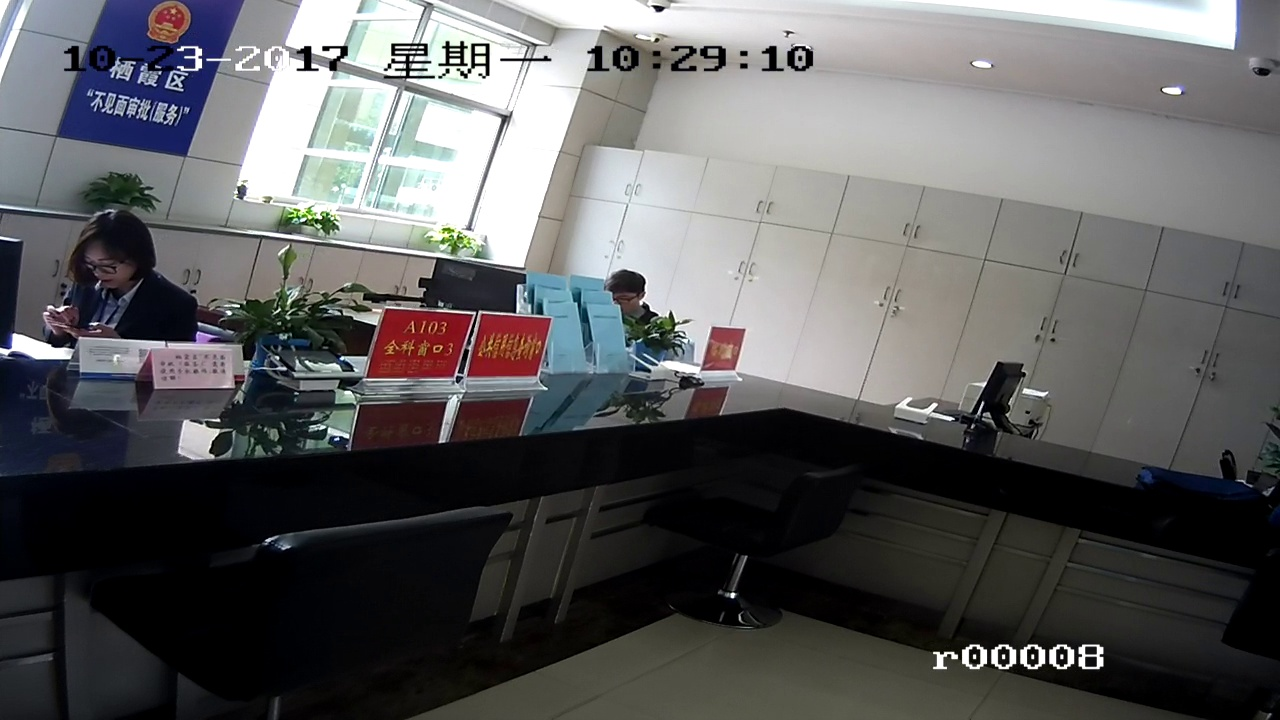billboard: (81, 2, 196, 136), (377, 307, 453, 385), (483, 317, 548, 385)
chair: (172, 523, 518, 684), (658, 458, 852, 628)
person: (66, 214, 168, 322), (606, 273, 653, 324)
pot: (254, 282, 331, 357), (94, 169, 143, 219), (280, 200, 335, 235)
